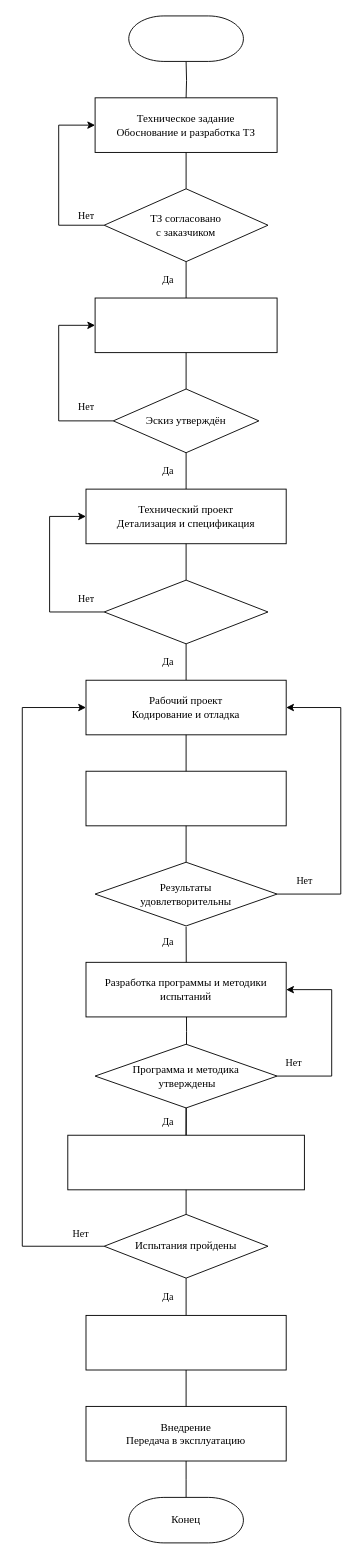
Some shapes in this 364 by 1559 pixel diagram are drawn without their labels. Each missing label, with the centre of its shape:
"Начало" belongs at (185,38).
"Подписание акта приёмки-передачи" belongs at (185,1342).
"Приёмо-сдаточные испытания по Программе и методике" belongs at (185,1162).
"Рабочий проект Интеграционное тестирование" belongs at (185,798).
"Техпроект утверждён" belongs at (185,611).
"Эскизный проект Проектирование архитектуры" belongs at (185,325).
